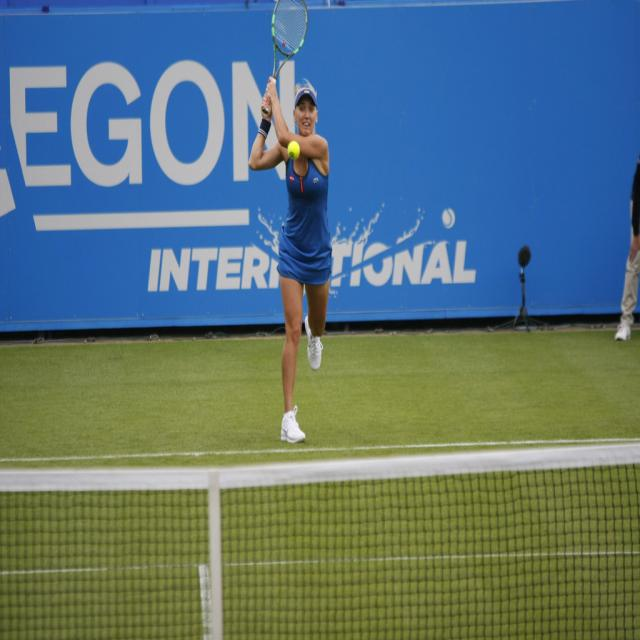ball: (286, 141, 300, 164)
